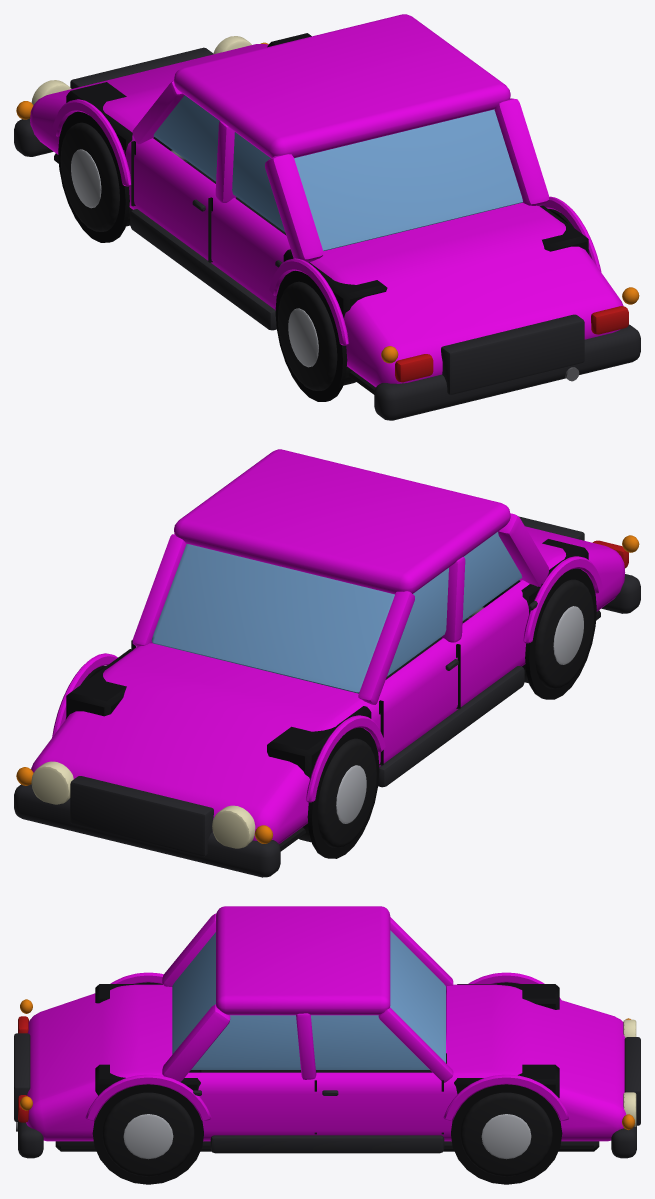
File: SedovaClassic_Player.fbx
3 views of the same model, one above another, from view 1: azimuth 30°, elevation 25°; view 2: azimuth 150°, elevation 25°; view 3: azimuth 270°, elevation 25° (orthographic). The views are drawn at different scales.
Parts seen in each view (by area): view 1: SedovaClassic_Player; view 2: SedovaClassic_Player; view 3: SedovaClassic_Player.
Part boxes in pixels (left/top/right/bottom): SedovaClassic_Player: left=14, top=14, right=640, bottom=420; SedovaClassic_Player: left=14, top=449, right=640, bottom=877; SedovaClassic_Player: left=14, top=906, right=640, bottom=1184.
Size of the model in its own units: 1.92 by 1.52 by 4.73.
